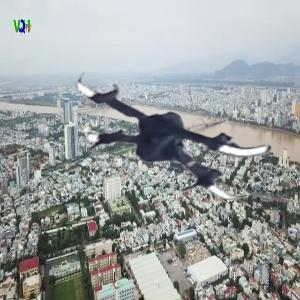drone: (75, 22, 277, 224)
